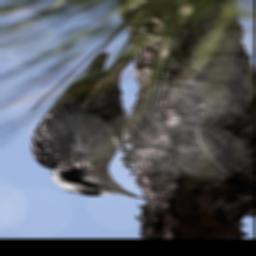Woodpecker: (20, 44, 155, 207)
